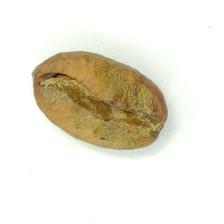NG: (59, 63, 154, 147)
